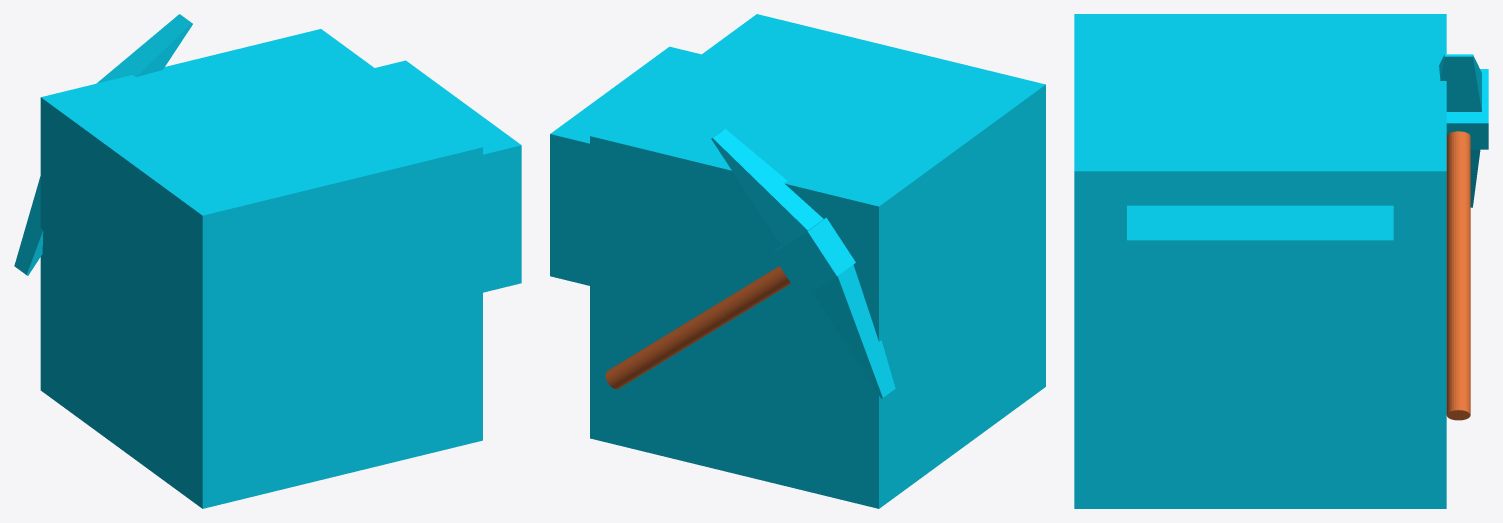
File: robot.glb
The picture shows the model from 3 angles, left to right: view 1: azimuth 30°, elevation 25°; view 2: azimuth 150°, elevation 25°; view 3: azimuth 270°, elevation 25°; orthographic projection. The views are drawn at different scales.
Parts seen in each view (by area): view 1: Cube; view 2: Cube; view 3: Cube.
Part boxes in pixels (x1,y1,x2,y2): Cube: [14, 14, 521, 508]; Cube: [550, 14, 1045, 508]; Cube: [1074, 14, 1488, 508].
Size of the model in its own units: 1 by 0.8896 by 0.876.
